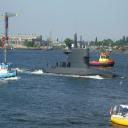submarine: (39, 33, 120, 78)
